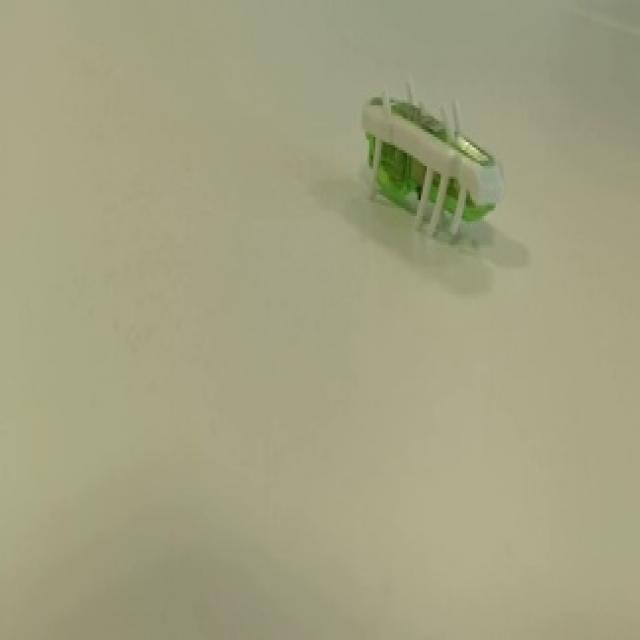4_NanoBug_Blanco: (332, 36, 562, 326)
